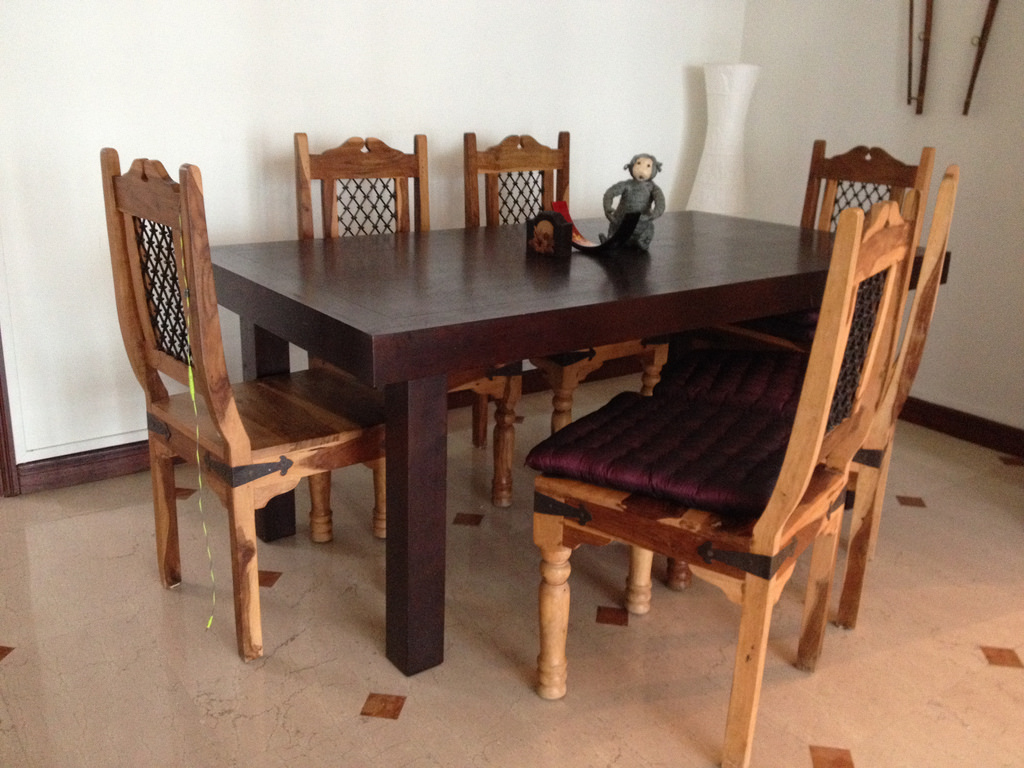chair: (544, 198, 890, 760), (92, 145, 419, 670)
dining table: (204, 192, 896, 666)
